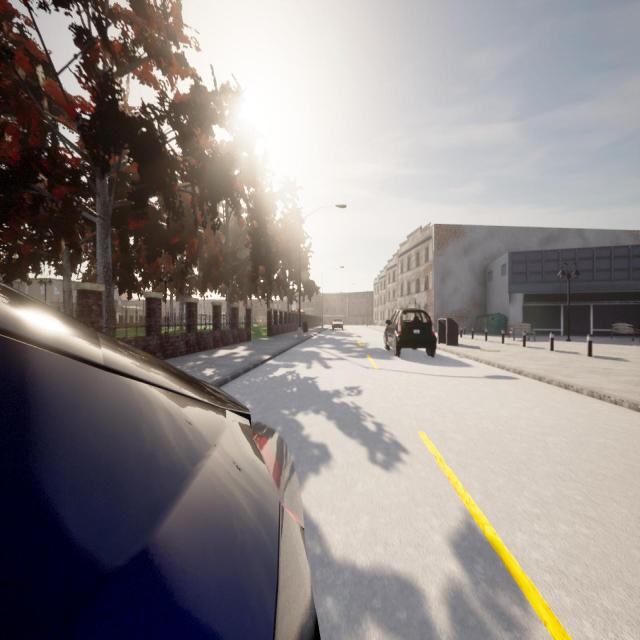Vehicle: (0, 286, 316, 640), (383, 308, 438, 358), (332, 319, 344, 330)
